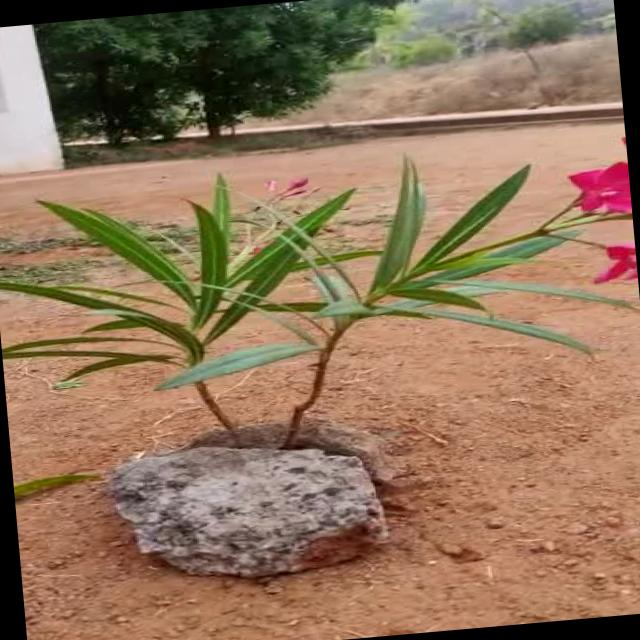Oleander: (29, 136, 640, 411)
